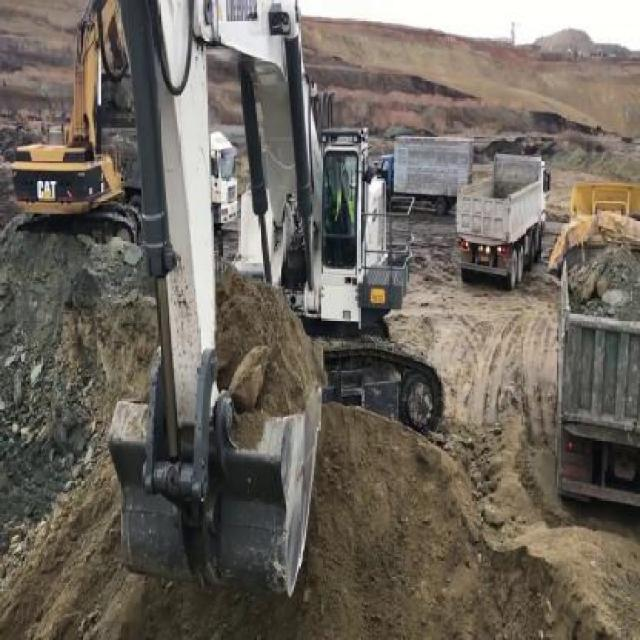Dump Truck: (555, 180, 639, 535), (450, 151, 556, 286), (374, 132, 475, 214), (212, 132, 236, 228)
Excavator: (108, 0, 457, 611), (14, 0, 137, 246)
